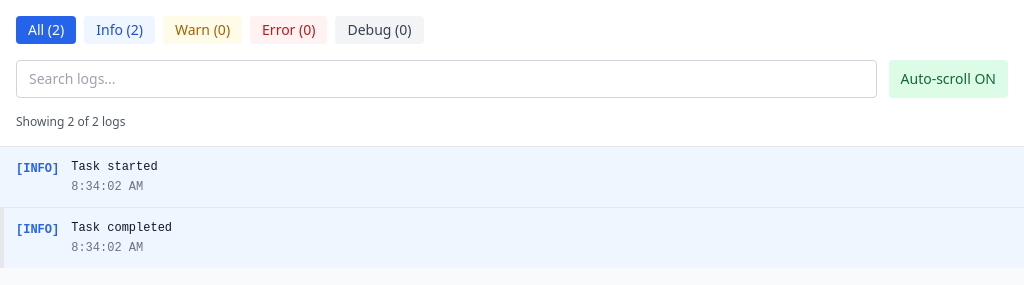
RealTimeLogs › should search logs by message
The width and height of the screenshot is (1024, 285).
Type "started" into the field with placeholder "Search logs..." at point(446, 79), box [16, 60, 876, 98]
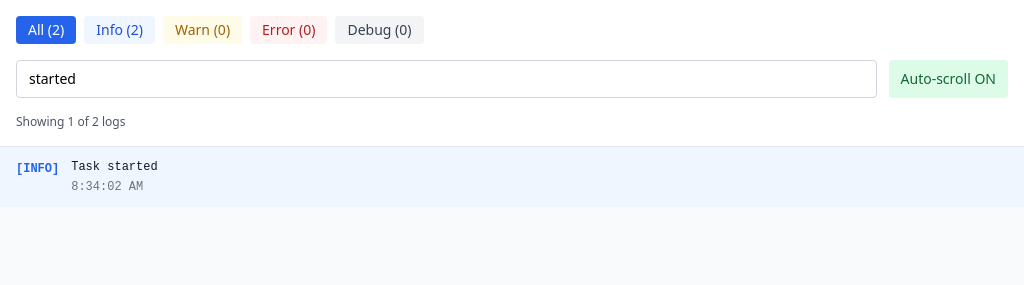
Expected: the text "Task started" is shown, [71, 160, 158, 174]
Expected: the text "Task completed" is gone
